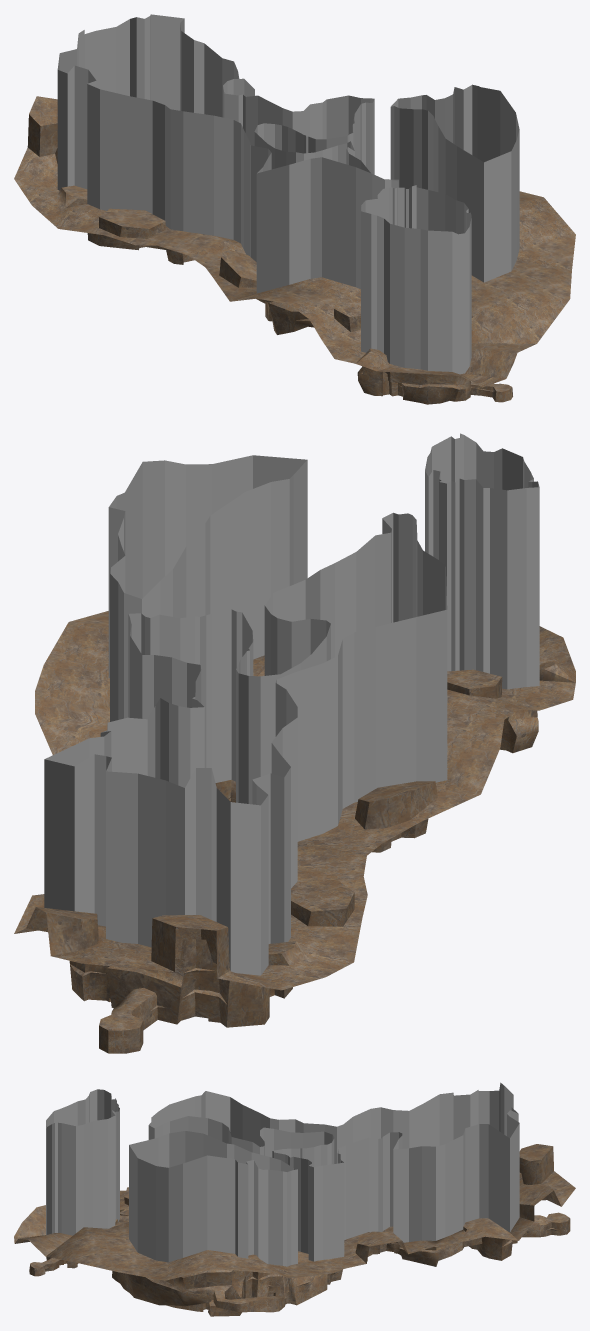
File: cave.fbx
3 renders of one model, top to bottom at view 1: azimuth 30°, elevation 25°; view 2: azimuth 150°, elevation 25°; view 3: azimuth 270°, elevation 25°, orthographic. The views are drawn at different scales.
Visible parts, largest first — view 1: _cave; view 2: _cave; view 3: _cave.
Boxes of the visible parts, box(x1,y1,x2,y2) form: _cave: box(14, 14, 575, 404); _cave: box(14, 433, 575, 1053); _cave: box(14, 1082, 575, 1316).
Size of the model in its own units: 30456 by 16897 by 54348.
Materials: 2 (1 with a texture image).
